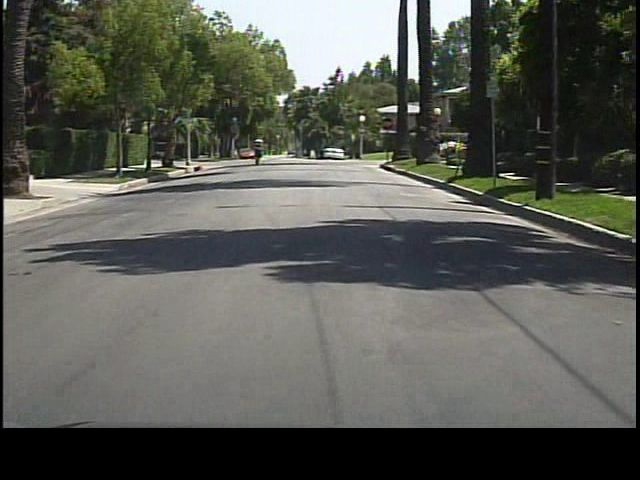person: (251, 136, 265, 168)
